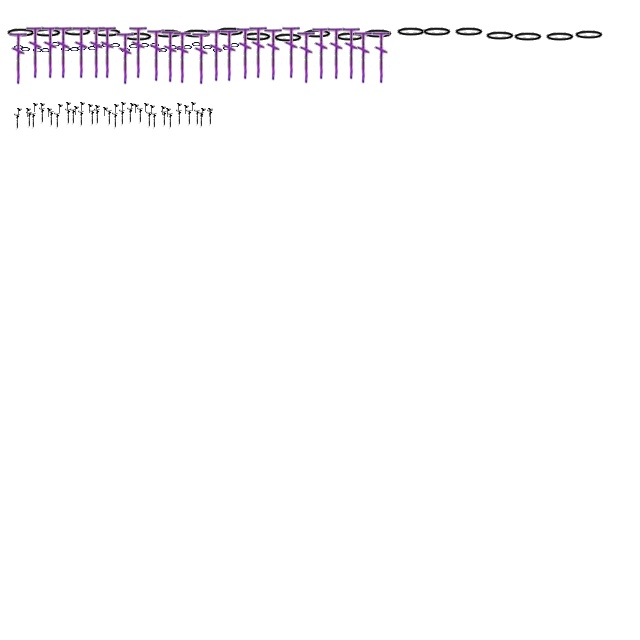chain: (5, 27, 37, 39), (31, 27, 63, 39), (61, 26, 93, 38), (91, 27, 123, 39), (122, 31, 154, 43), (152, 28, 184, 40), (181, 28, 213, 40), (214, 26, 246, 38), (241, 31, 273, 43), (272, 32, 304, 44), (301, 28, 333, 40), (334, 31, 366, 43), (362, 28, 394, 40), (395, 26, 427, 38), (421, 26, 453, 38), (453, 26, 485, 38), (484, 30, 516, 42), (512, 31, 544, 43), (544, 31, 576, 43), (573, 29, 605, 41), (20, 45, 32, 53), (32, 46, 44, 54), (40, 46, 52, 54), (50, 40, 62, 48), (60, 45, 72, 53), (76, 44, 88, 52), (92, 42, 104, 50), (110, 41, 122, 49), (120, 46, 132, 54), (128, 42, 140, 50), (182, 43, 194, 51), (202, 43, 214, 51), (212, 46, 224, 54), (222, 44, 234, 52), (14, 43, 24, 51), (70, 45, 80, 53), (88, 44, 98, 52), (102, 41, 112, 49), (140, 41, 150, 49), (150, 41, 160, 49), (158, 46, 168, 54), (168, 43, 178, 51), (176, 44, 186, 52), (192, 40, 202, 48), (230, 41, 240, 49)
double treble: (9, 30, 27, 86), (26, 24, 44, 80), (41, 24, 59, 80), (54, 24, 72, 80), (72, 24, 90, 80), (87, 24, 105, 80), (98, 24, 116, 80), (116, 30, 134, 86), (129, 24, 147, 80), (161, 28, 179, 84), (192, 30, 210, 86), (249, 24, 267, 80), (264, 26, 282, 82), (282, 24, 300, 80), (147, 28, 165, 82), (173, 30, 191, 84), (207, 28, 225, 82), (220, 28, 238, 82), (236, 26, 254, 80), (297, 30, 315, 84), (312, 26, 330, 80), (327, 26, 345, 80), (342, 26, 360, 80), (354, 30, 372, 84), (372, 30, 390, 84), (30, 112, 36, 130), (48, 110, 54, 128), (54, 112, 60, 130), (65, 108, 71, 126), (70, 108, 76, 126), (78, 110, 84, 128), (94, 108, 100, 126), (112, 112, 118, 130), (151, 112, 157, 130), (161, 110, 167, 128), (167, 112, 173, 130), (14, 114, 20, 130), (26, 112, 32, 128), (39, 108, 45, 124), (89, 110, 95, 126), (106, 110, 112, 126), (119, 110, 125, 126), (127, 108, 133, 124), (137, 108, 143, 124), (146, 112, 152, 128), (176, 110, 182, 126), (186, 110, 192, 126), (194, 110, 200, 126), (198, 112, 204, 128), (207, 110, 213, 126), (26, 108, 32, 118), (58, 104, 64, 114), (66, 102, 72, 112), (74, 106, 80, 116), (80, 102, 86, 112), (88, 104, 94, 114), (114, 104, 120, 114), (134, 104, 140, 114), (166, 108, 172, 118), (208, 108, 214, 118), (40, 104, 46, 112), (130, 104, 136, 112), (144, 104, 150, 112), (150, 106, 156, 114), (184, 106, 190, 114), (18, 108, 22, 118), (48, 108, 52, 118), (122, 102, 126, 112), (162, 106, 166, 116), (192, 102, 196, 112), (202, 108, 206, 118), (34, 104, 38, 112), (96, 106, 100, 114), (104, 108, 108, 116), (178, 104, 182, 112)
